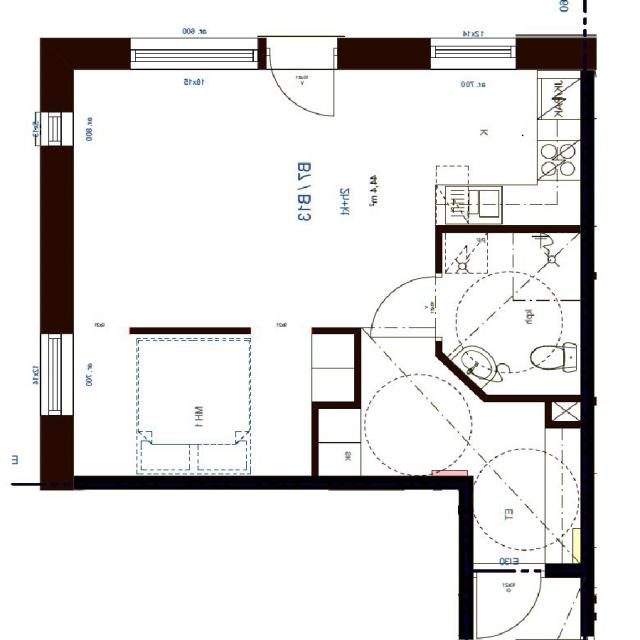door: (269, 38, 335, 130), (477, 563, 541, 638), (372, 276, 442, 337)
